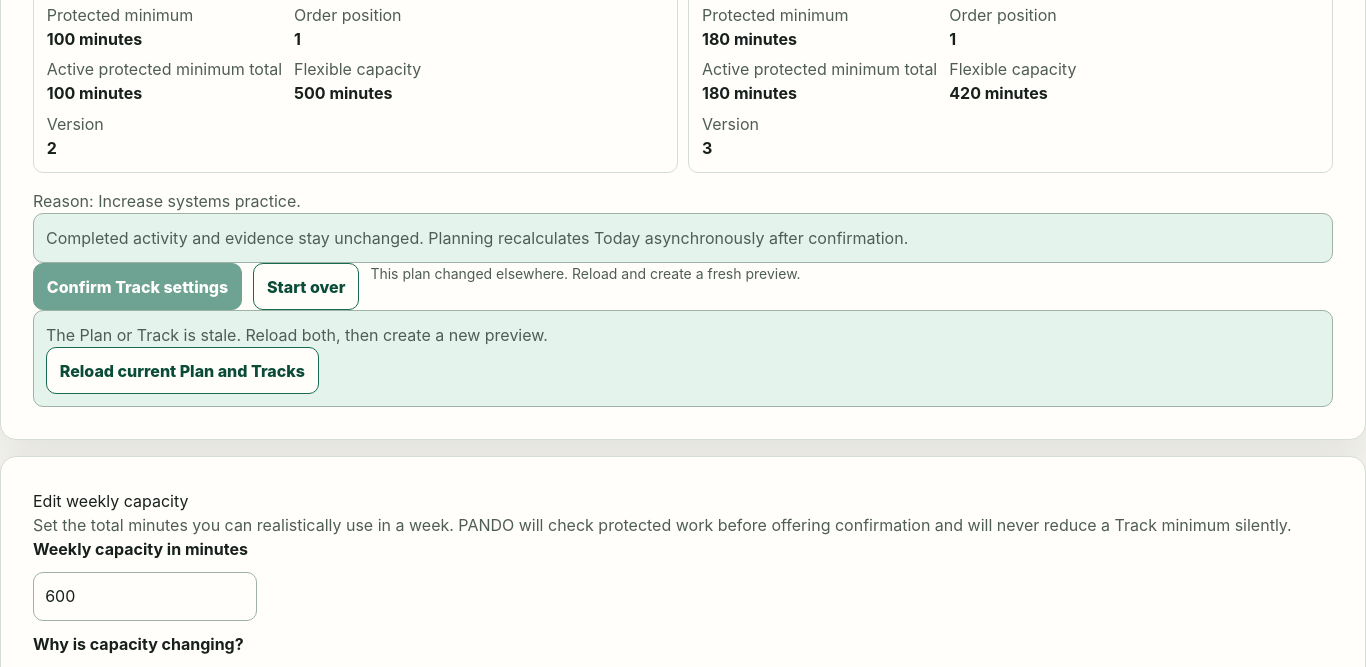
Scenario: PlanWorkspace › offers an explicit stale Track settings reload and removes its confirmation
The image size is (1366, 667).
(page scrolled)
Click the button "Reload current Plan and Tracks". click: click(182, 371)
box: [46,347,319,394]
(page scrolled)
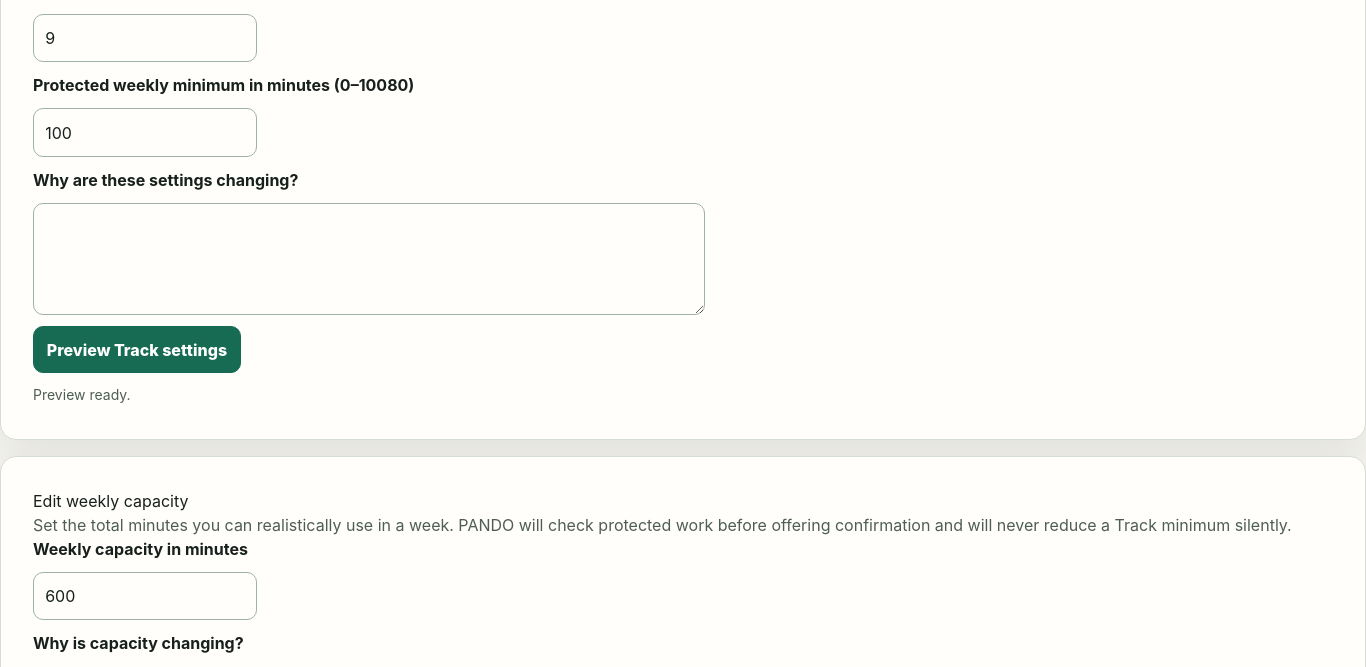
Expected: the button "Confirm Track settings" is gone
